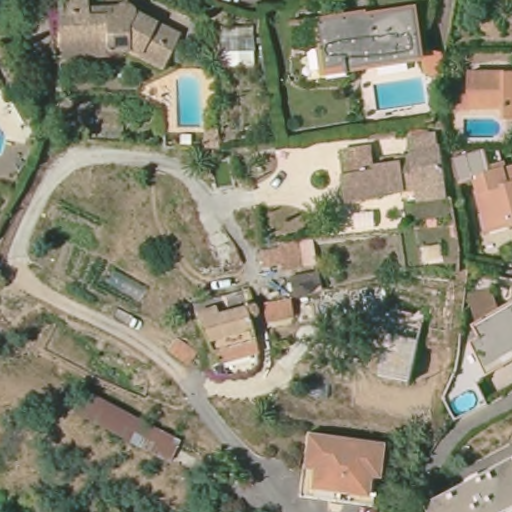pool: (173, 69, 206, 132), (373, 80, 429, 110), (458, 112, 502, 143), (447, 390, 481, 415)
